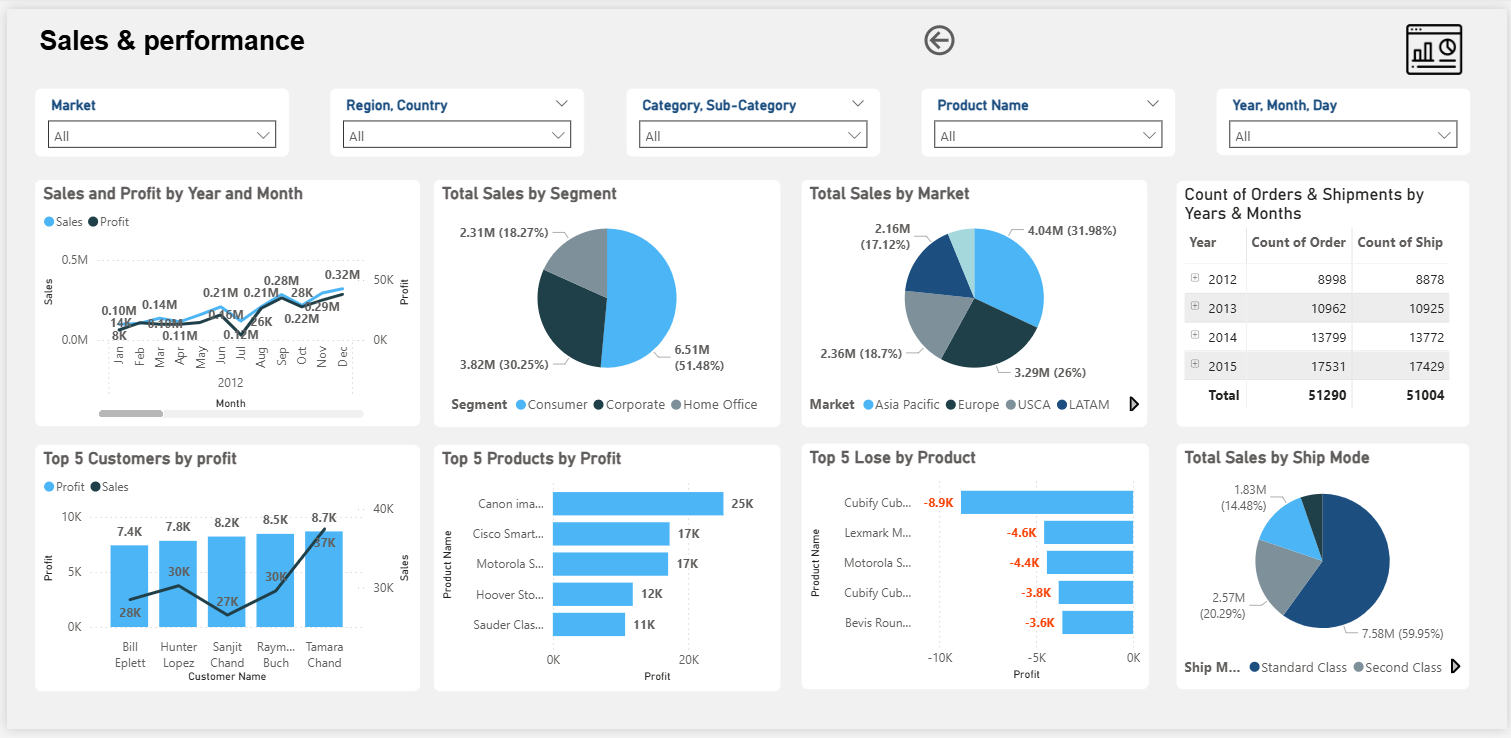

This screenshot's page, from the dashboard's own definition file:
{"tool":"powerbi","page":{"name":"Sales","canvas":[1500,720],"ordinal":1},"visuals":[{"type":"textbox","box":[28,12,587.2,46.2],"z":0},{"type":"image","box":[1391,12,71.6,56.2],"z":1000},{"type":"slicer","fields":{"Values":["Orders.Market"]},"box":[28,79,255.1,69.4],"z":2000},{"type":"slicer","fields":{"Values":["Orders.Region","Orders.Country"]},"box":[323.1,79,255.1,69.4],"z":3000},{"type":"slicer","fields":{"Values":["Orders.Category","Orders.Sub-Category"]},"box":[618.2,79,255.1,69.4],"z":4000},{"type":"slicer","fields":{"Values":["Orders.Product Name"]},"box":[913.3,79,255.1,69.4],"z":5000},{"type":"slicer","fields":{"Values":["Calendar.Year","Calendar.MonthSort","Calendar.Day"]},"box":[1208.3,79,255,68.3],"z":6000},{"type":"lineChart","fields":{"Category":["Calendar.Year","Calendar.MonthSort"],"Y":["Orders.Sales"],"Y2":["Orders.Profit"]},"box":[28,170,386,248],"z":7000},{"type":"pieChart","title":"Total Sales by Segment","fields":{"Category":["Orders.Segment"],"Y":["Orders.Sales"]},"box":[426.2,170,348,248.8],"z":8000},{"type":"pieChart","title":"Total Sales by Market","fields":{"Y":["Orders.Sales"],"Category":["Orders.Market"]},"box":[793.8,170,347.5,248.8],"z":9000},{"type":"pivotTable","title":"Count of Orders & Shipments by Years & Months","fields":{"Rows":["Calendar.Year","Calendar.MonthSort"],"Values":["Orders.Order Date","Orders.Count of Ship"]},"box":[1168.6,171.4,294.3,247.1],"z":10000},{"type":"lineClusteredColumnComboChart","title":"Top 5 Customers by profit","fields":{"Category":["Orders.Customer Name"],"Y":["Orders.Profit"],"Y2":["Orders.Sales"]},"box":[28,435,386,248],"z":11000},{"type":"clusteredBarChart","title":"Top 5 Products by Profit","fields":{"Category":["Orders.Product Name"],"Y":["Orders.Profit"]},"box":[426,435,348,248],"z":12000},{"type":"clusteredBarChart","title":"Top 5 Lose by Product","fields":{"Category":["Orders.Product Name"],"Y":["Orders.Profit"]},"box":[794.3,434.3,348.6,247.1],"z":13000},{"type":"pieChart","title":"Total Sales by Ship Mode","fields":{"Category":["Orders.Ship Mode"],"Y":["Orders.Sales"]},"box":[1169,434,294,247],"z":14000},{"type":"actionButton","box":[912.9,11.4,100,40],"z":15000}]}

Visuals, with their boxes in screenshot pixels (x1, y1, x2, y2), scaled from the page's 1500x720 canvas onto the 1511x738 screenshot:
textbox: [left=28, top=12, right=620, bottom=60]
image: [left=1401, top=12, right=1473, bottom=70]
slicer - Orders.Market: [left=28, top=81, right=285, bottom=152]
slicer - Orders.Region x Orders.Country: [left=325, top=81, right=582, bottom=152]
slicer - Orders.Category x Orders.Sub-Category: [left=623, top=81, right=880, bottom=152]
slicer - Orders.Product Name: [left=920, top=81, right=1177, bottom=152]
slicer - Calendar.Year x Calendar.MonthSort: [left=1217, top=81, right=1474, bottom=151]
lineChart - Calendar.Year x Calendar.MonthSort: [left=28, top=174, right=417, bottom=428]
"Total Sales by Segment" pieChart: [left=429, top=174, right=780, bottom=429]
"Total Sales by Market" pieChart: [left=800, top=174, right=1150, bottom=429]
"Count of Orders & Shipments by Years & Months" pivotTable: [left=1177, top=176, right=1474, bottom=429]
"Top 5 Customers by profit" lineClusteredColumnComboChart: [left=28, top=446, right=417, bottom=700]
"Top 5 Products by Profit" clusteredBarChart: [left=429, top=446, right=780, bottom=700]
"Top 5 Lose by Product" clusteredBarChart: [left=800, top=445, right=1151, bottom=698]
"Total Sales by Ship Mode" pieChart: [left=1178, top=445, right=1474, bottom=698]
actionButton: [left=920, top=12, right=1020, bottom=53]
